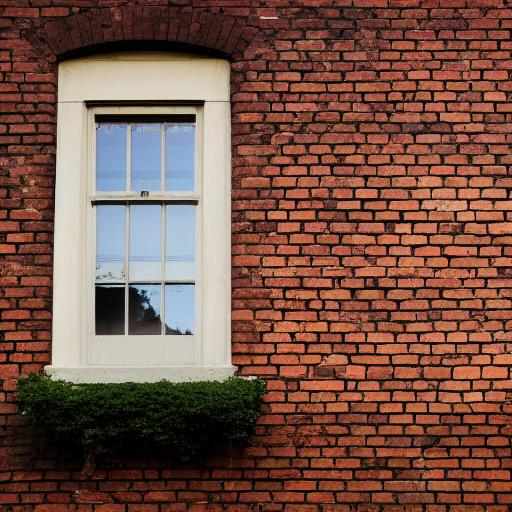Window: (18, 7, 268, 469)
